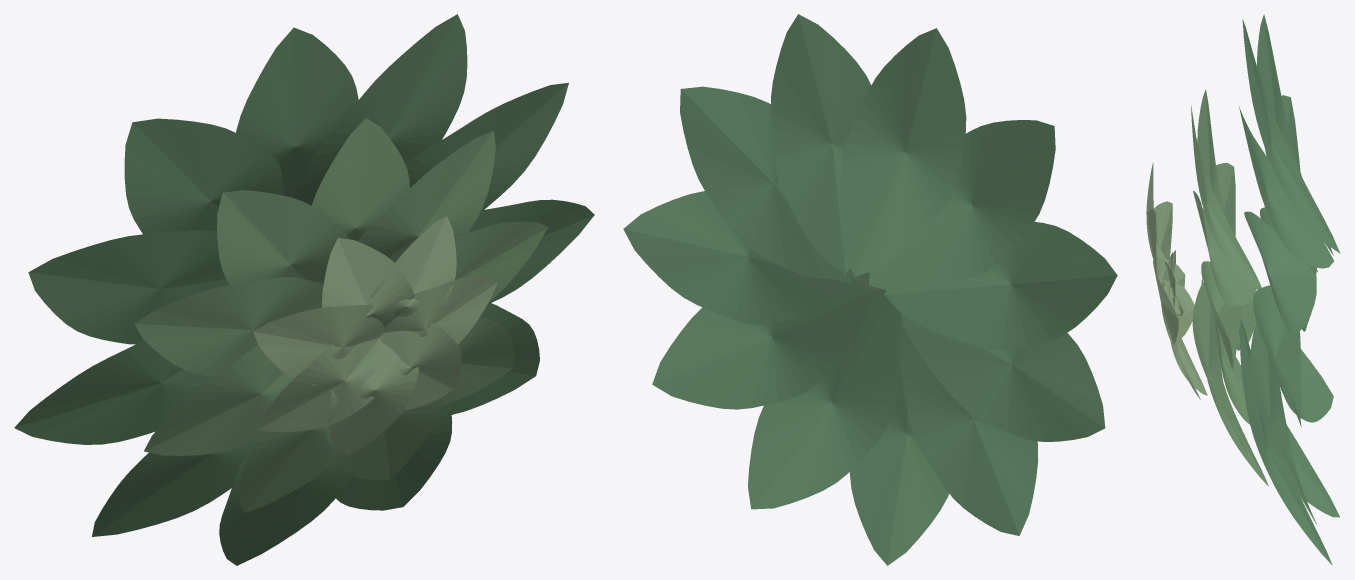
Rendered from lettuce_a.glb.
3 renders of one model, left to right at view 1: azimuth 30°, elevation 25°; view 2: azimuth 150°, elevation 25°; view 3: azimuth 270°, elevation 25°, orthographic. The views are drawn at different scales.
Parts seen in each view (by area): view 1: Outer, Middle, Heart; view 2: Outer; view 3: Outer, Middle, Heart.
Part boxes in pixels (left/top/right/bottom): Outer: left=14, top=14, right=594, bottom=565; Middle: left=134, top=118, right=547, bottom=512; Heart: left=253, top=216, right=497, bottom=455; Outer: left=623, top=14, right=1117, bottom=565; Outer: left=1238, top=14, right=1340, bottom=565; Middle: left=1191, top=89, right=1268, bottom=486; Heart: left=1146, top=162, right=1207, bottom=399.
Size of the model in its own units: 0.5242 by 0.5107 by 0.1799.
